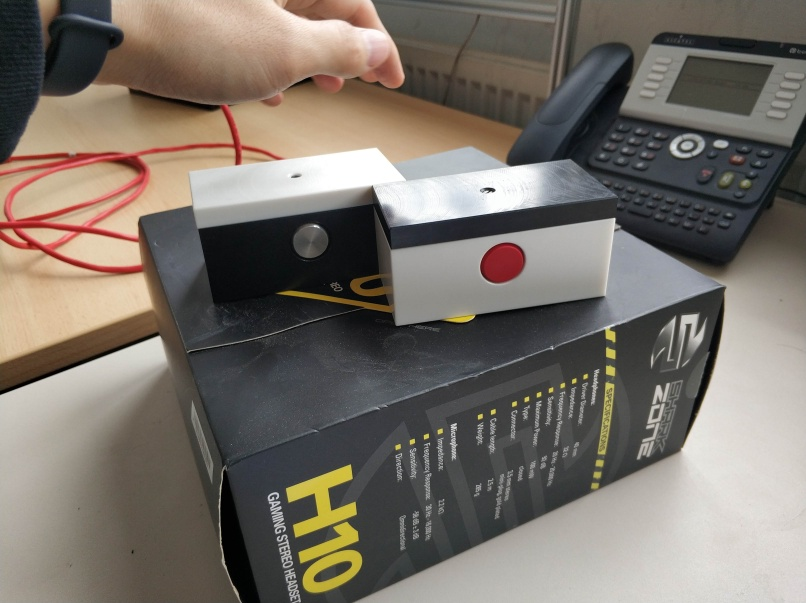black+white+red: (372, 157, 621, 329)
white+black+silver: (186, 147, 408, 297)
